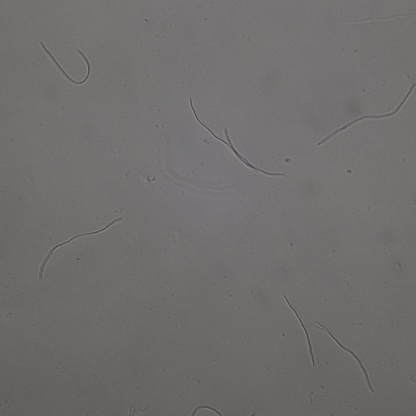Sensitive: (189, 99, 286, 177), (318, 82, 414, 145), (38, 218, 120, 279), (318, 322, 375, 394), (284, 295, 315, 366), (42, 42, 91, 85)
